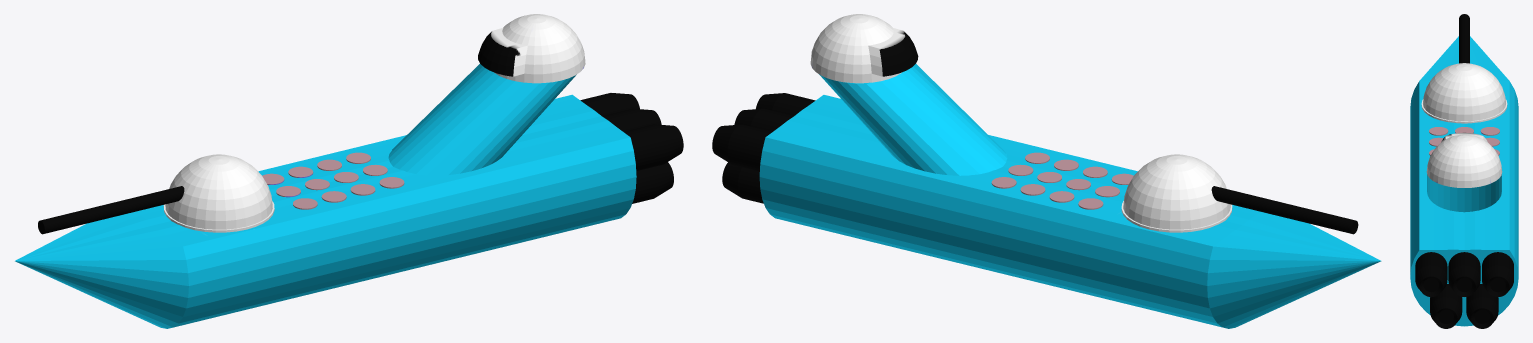
Rendered from BlueforCorvette.fbx.
3 views of the same model, side by side, from view 1: azimuth 30°, elevation 25°; view 2: azimuth 150°, elevation 25°; view 3: azimuth 270°, elevation 25° (orthographic). The views are drawn at different scales.
Visible parts, largest first — view 1: Sphere; view 2: Sphere; view 3: Sphere.
Part boxes in pixels (<box>): Sphere: <box>15,14,683,328</box>; Sphere: <box>712,14,1381,328</box>; Sphere: <box>1410,14,1518,328</box>.
Bounding box in the file's own units: 2216 × 701 × 420.
1 material, 1 textured.
